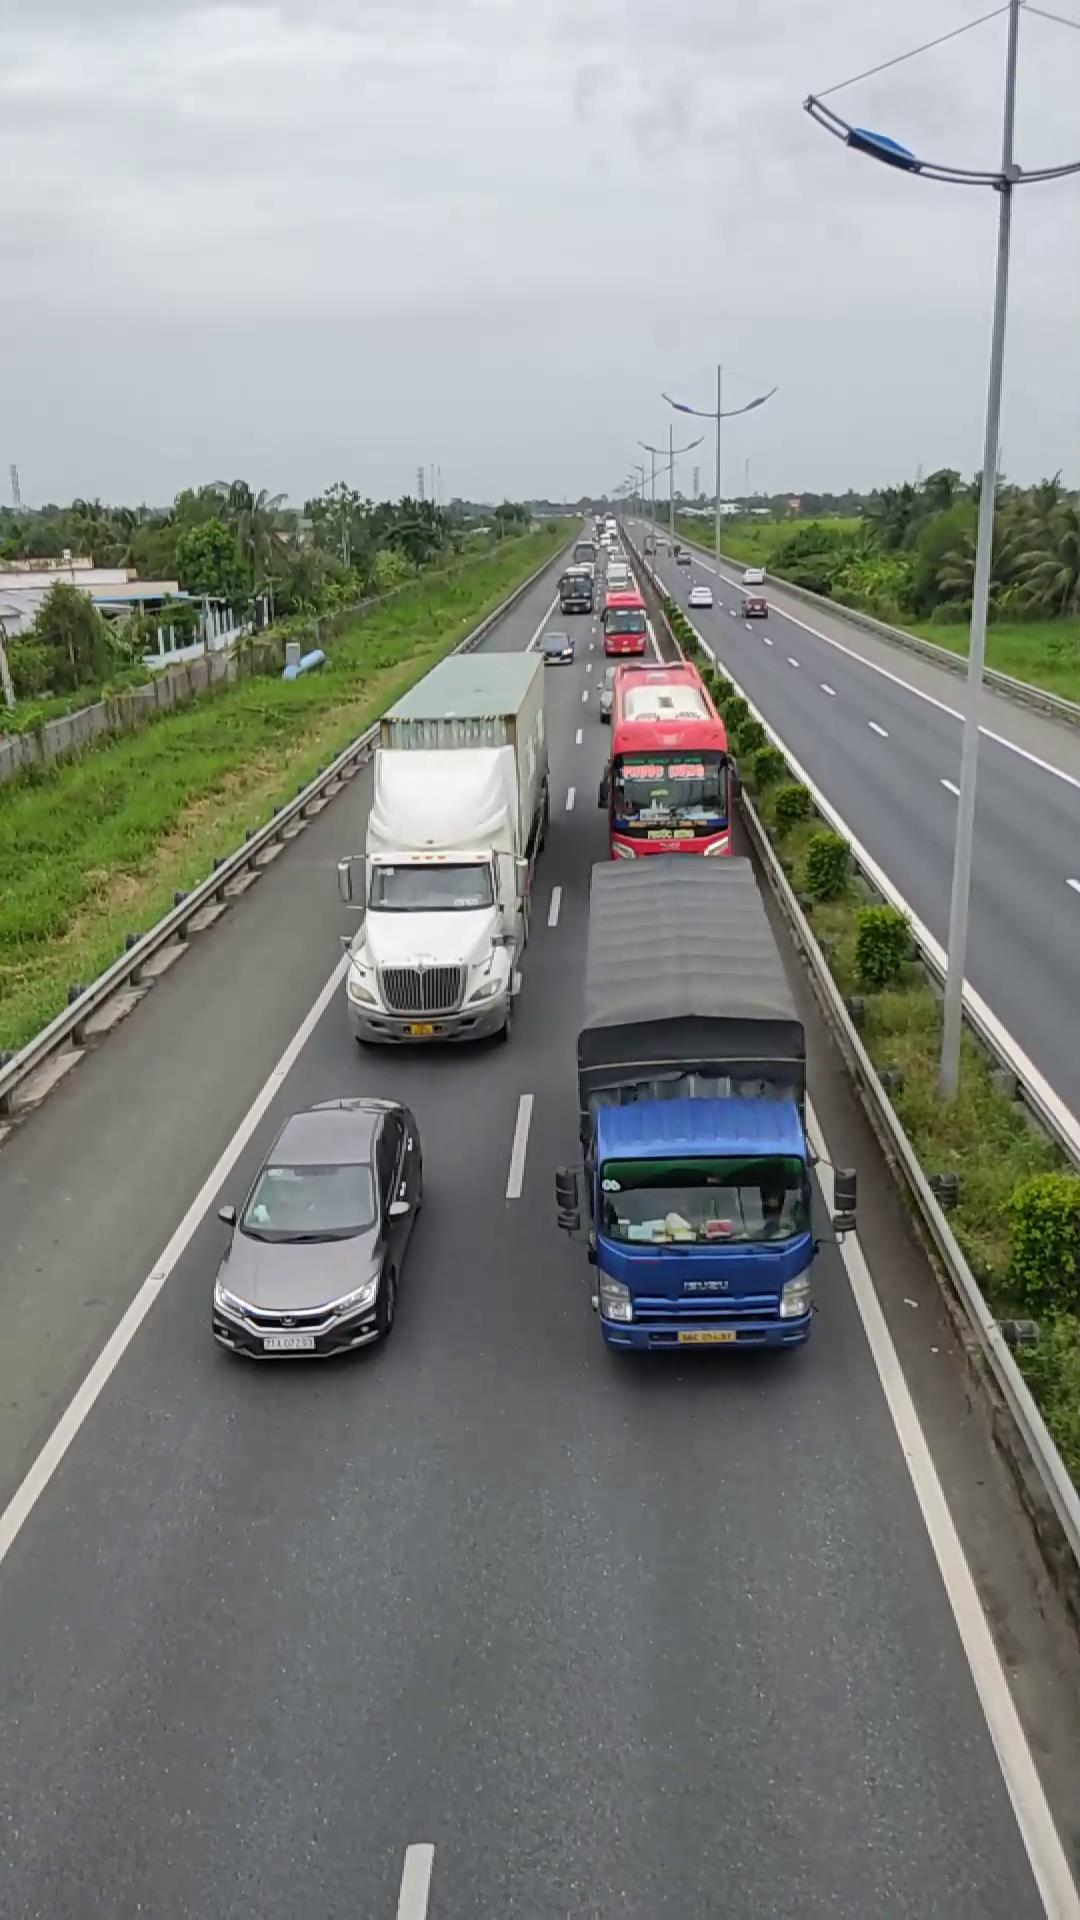car: (208, 1095, 429, 1360)
container: (343, 644, 553, 1048)
truck: (556, 864, 829, 1360)
